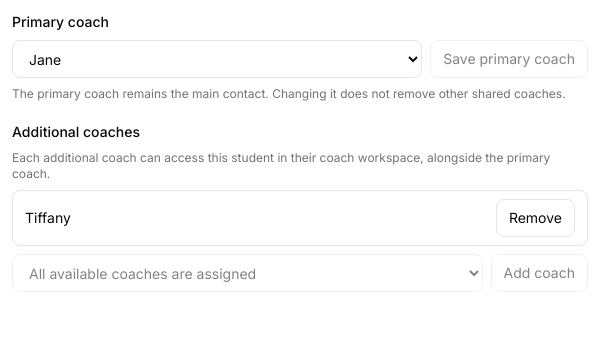
Test: shared coach controls › does not make a silent assignment change or lose current coaches on failure
Click the button with aria-label "Remove Tiffany".
click(535, 218)  # box [496, 199, 575, 237]
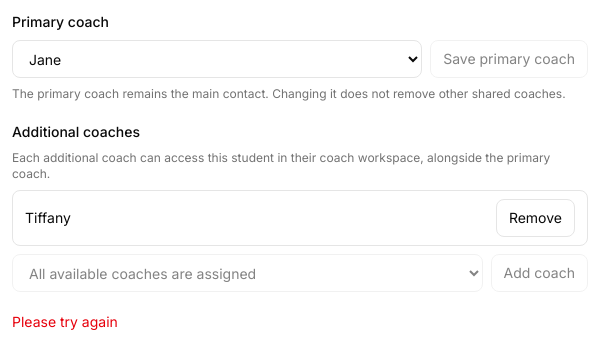
Now the message "Please try again" is shown, box [12, 313, 118, 330]
